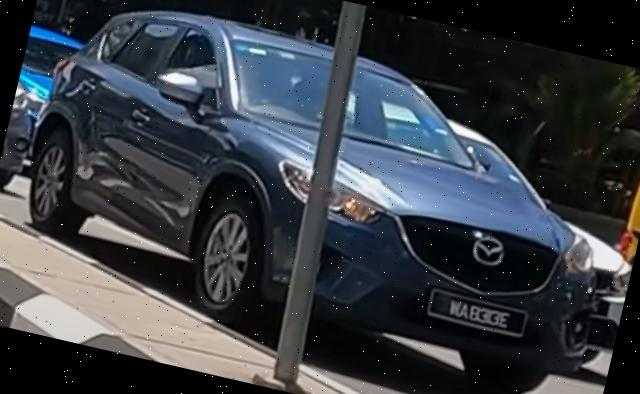License_Plate: (425, 286, 532, 341)
car: (1, 1, 640, 394)
